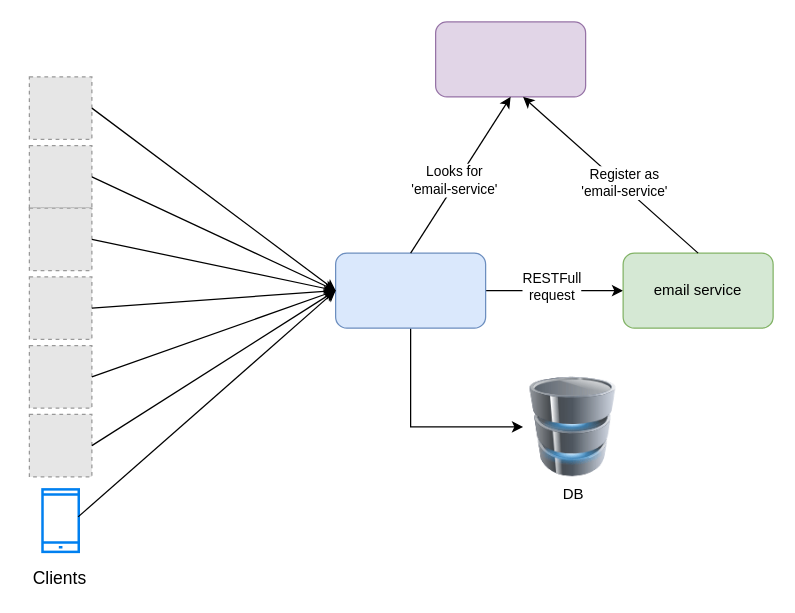
Image size: 795x613. Some labels were removed from this diagram. Grey dashed boxes stand in for pictures. Here are the shapes that lost their labels. From the top down, the centre of each, then its label:
the point at 510,59: discovery service (Eureka)
the point at 410,290: user service
